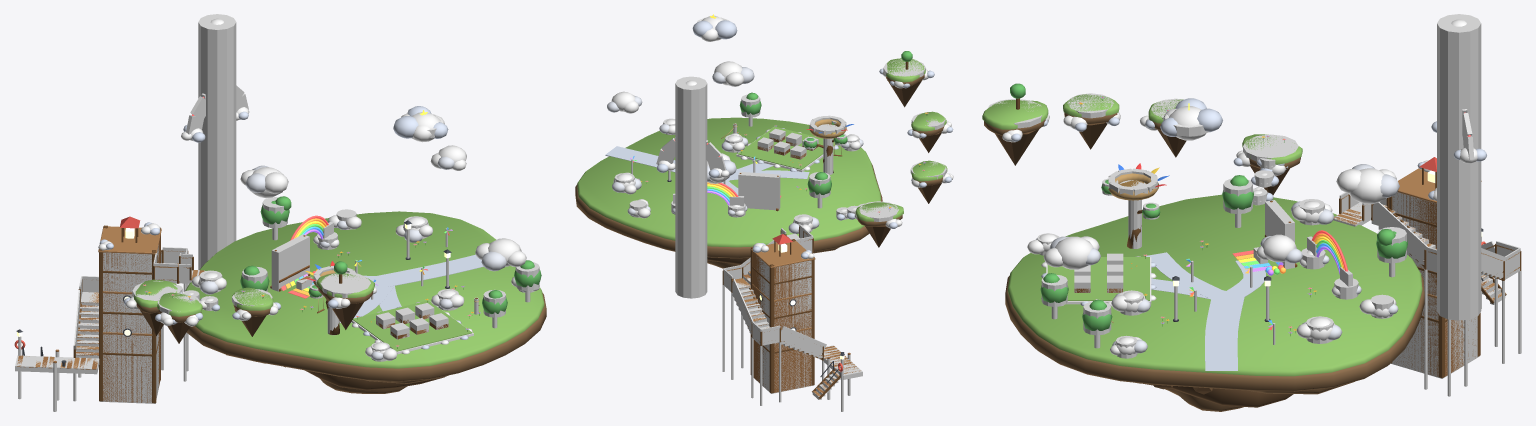
File: nuvens.glb
3 renders of one model, left to right at view 1: azimuth 30°, elevation 25°; view 2: azimuth 150°, elevation 25°; view 3: azimuth 270°, elevation 25°, orthographic. The views are drawn at different scales.
Visible parts, largest first — view 1: chao, cenario, col-cil-torre-nuvem-1, porto, col-cais-torre-1, col-tear-1, plataforma-2, plataforma-4, plataforma-3, col-cais-deque-1, plataforma-1, col-cil-plataforma-4 (+1 smaller); view 2: chao, cenario, porto, col-cil-torre-nuvem-1, col-cais-torre-1, col-tear-1, plataforma-4, plataforma-2, plataforma-1, plataforma-3, col-guarda-cais-1, col-cais-deque-1 (+4 smaller); view 3: chao, cenario, col-cil-torre-nuvem-1, porto, col-cais-torre-1, plataforma-4, plataforma-3, plataforma-1, col-cil-plataforma-1, col-guarda-cais-7, col-tear-1, plataforma-2 (+5 smaller).
Boxes of the visible parts, <box> form: chao: <box>185,211,546,393</box>; cenario: <box>180,106,541,360</box>; col-cil-torre-nuvem-1: <box>198,14,236,269</box>; porto: <box>14,216,204,403</box>; col-cais-torre-1: <box>99,245,160,403</box>; col-tear-1: <box>271,234,309,291</box>; plataforma-2: <box>155,292,203,343</box>; plataforma-4: <box>316,261,376,329</box>; plataforma-3: <box>232,287,281,336</box>; col-cais-deque-1: <box>15,355,99,374</box>; plataforma-1: <box>123,279,177,335</box>; col-cil-plataforma-4: <box>320,272,370,298</box>; chao: <box>575,117,882,268</box>; cenario: <box>605,14,863,233</box>; porto: <box>722,226,860,398</box>; col-cil-torre-nuvem-1: <box>675,76,707,298</box>; col-cais-torre-1: <box>754,256,814,393</box>; col-tear-1: <box>738,171,780,210</box>; plataforma-4: <box>879,51,934,107</box>; plataforma-2: <box>911,160,953,203</box>; plataforma-1: <box>854,202,903,247</box>; plataforma-3: <box>907,111,953,152</box>; col-guarda-cais-1: <box>777,326,826,357</box>; col-cais-deque-1: <box>823,345,862,379</box>; chao: <box>1005,194,1424,411</box>; cenario: <box>1027,98,1407,370</box>; col-cil-torre-nuvem-1: <box>1437,14,1481,320</box>; porto: <box>1334,157,1521,378</box>; col-cais-torre-1: <box>1391,192,1479,378</box>; plataforma-4: <box>982,83,1049,165</box>; plataforma-3: <box>1063,94,1120,149</box>; plataforma-1: <box>1233,134,1302,195</box>; col-cil-plataforma-1: <box>1243,134,1298,161</box>; col-guarda-cais-7: <box>1372,202,1429,263</box>; col-tear-1: <box>1265,200,1294,269</box>; plataforma-2: <box>1140,99,1186,157</box>.
Bounding box in the file's own units: 32.92 × 26.56 × 32.91.
